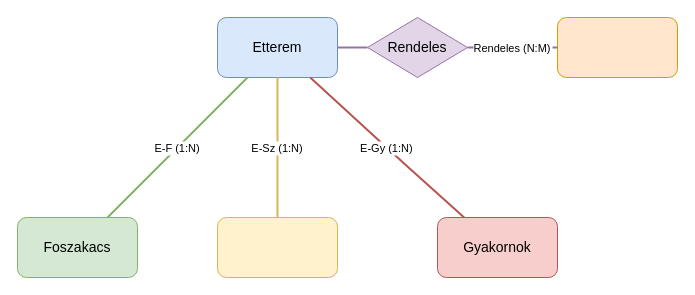
The diagram is 695 pixels wide and 295 high, and some of its shapes have lost their labels. The centre of each missing label's shape, as x and y in pixels:
Szakacs: [277,247]
Vendeg: [617,47]
